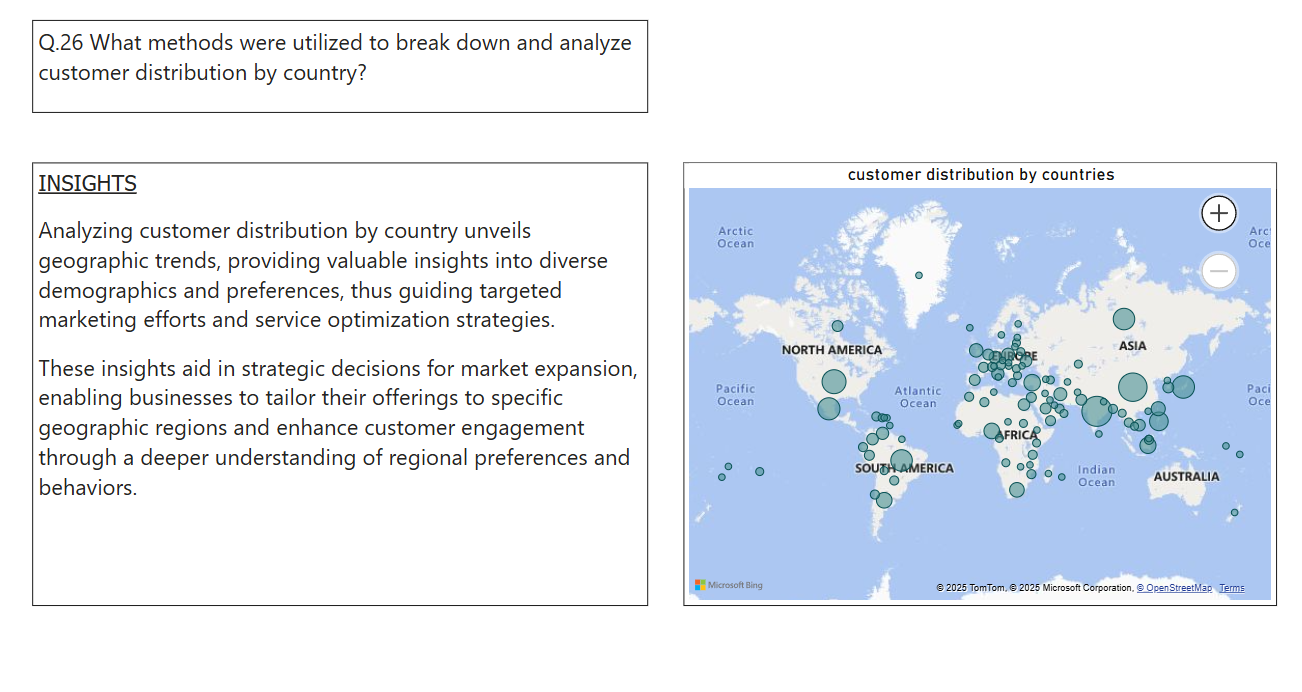

This screenshot's page, from the dashboard's own definition file:
{"tool":"powerbi","page":{"name":"Q26","canvas":[1280,720],"ordinal":31},"visuals":[{"type":"textbox","box":[44.6,38.6,594.8,89.3],"z":0},{"type":"textbox","box":[44.6,176.1,594.8,428.3],"z":1000},{"type":"map","title":"customer distribution by countries","fields":{"Category":["country.country"],"Size":["CountNonNull(customer.customer_id)"]},"box":[673.2,176.1,573.1,428.3],"z":2000}]}

Visuals, with their boxes on the page's 1280x720 design canvas (x1, y1, x2, y2). These are canvas units, not pixel positions in the 1302x692 screenshot, which may show the page scaled, cropped or inside an application window:
textbox: crop(45, 39, 639, 128)
textbox: crop(45, 176, 639, 604)
"customer distribution by countries" map: crop(673, 176, 1246, 604)
